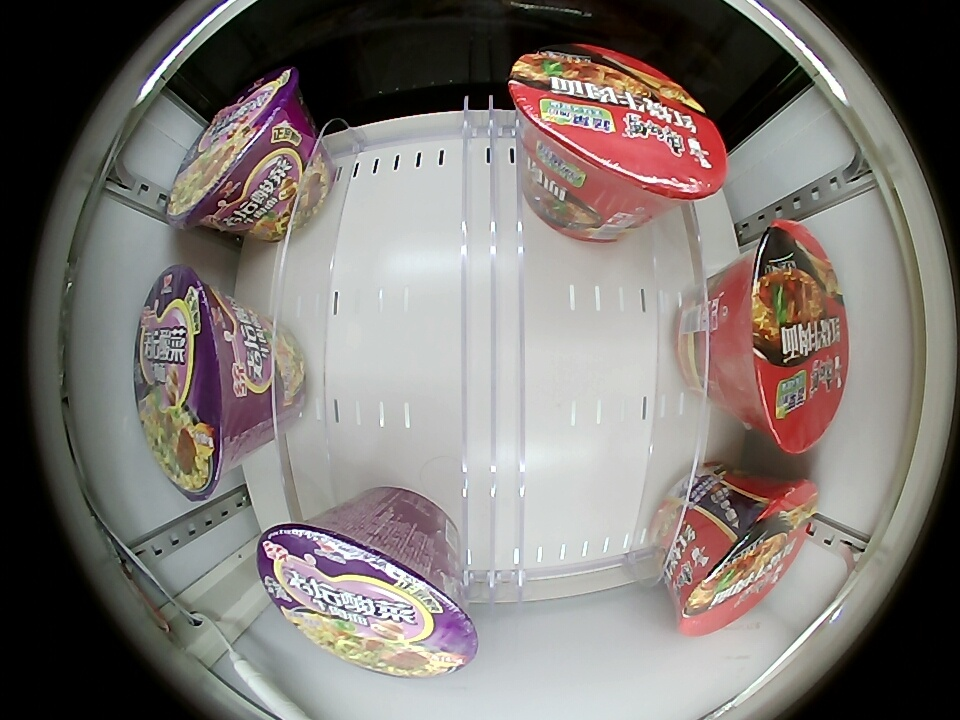hongshaoniurou: (510, 44, 726, 208), (717, 220, 847, 451), (672, 479, 818, 635)
laotansuancai: (257, 515, 477, 679), (135, 267, 261, 500), (166, 66, 314, 234)
